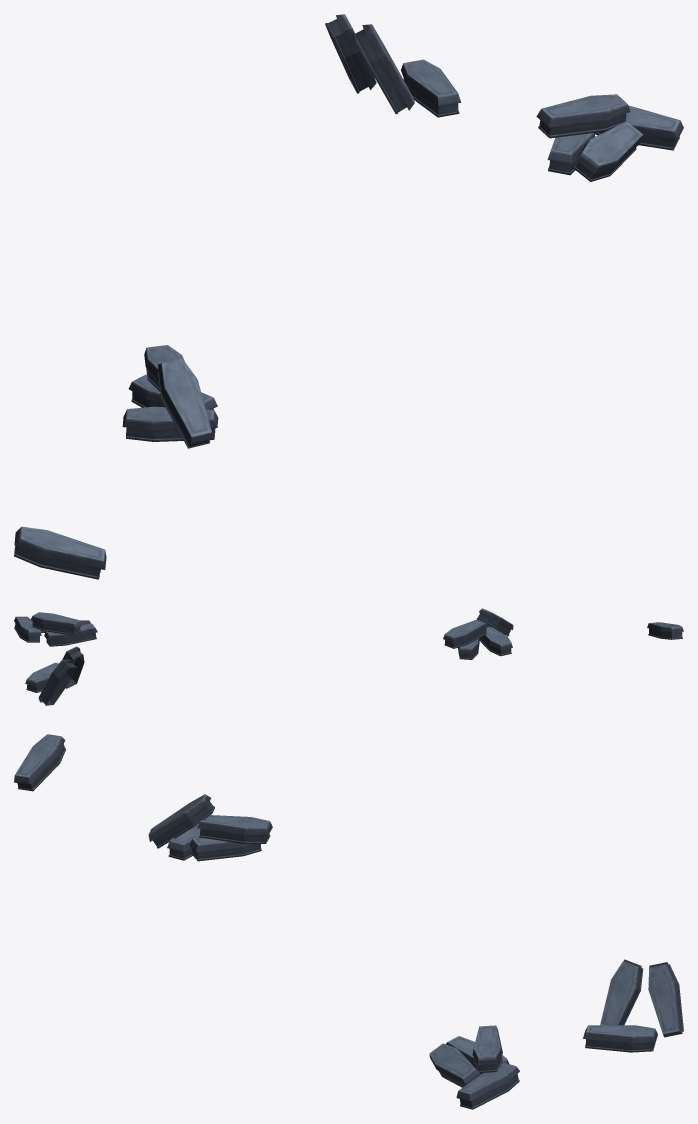
File: Area14_5.fbx
The picture shows the model from 3 angles, top to bottom: view 1: azimuth 30°, elevation 25°; view 2: azimuth 150°, elevation 25°; view 3: azimuth 270°, elevation 25°; orthographic projection. The views are drawn at different scales.
Parts seen in each view (by area): view 1: Area14_5; view 2: Area14_5; view 3: Area14_5.
Part boxes in pixels (bbox=[...]): Area14_5: bbox=[14, 14, 683, 579]; Area14_5: bbox=[14, 608, 683, 705]; Area14_5: bbox=[14, 734, 683, 1109].
Size of the model in its own units: 3989 by 411 by 3179.
